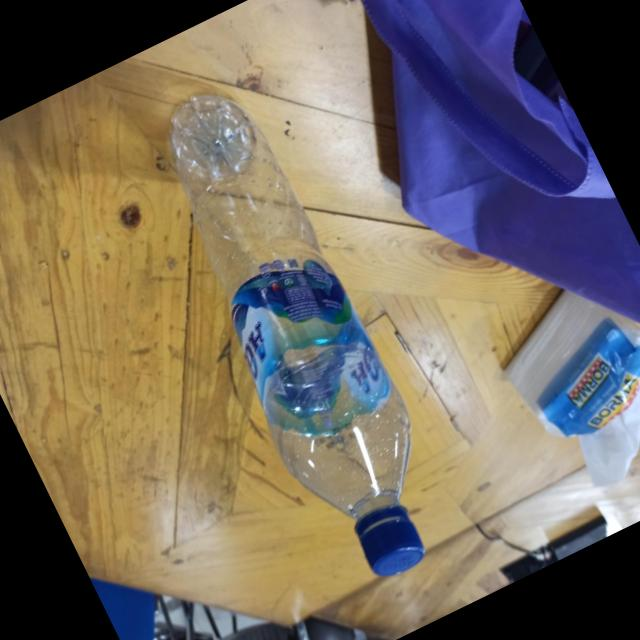BotolPlastik: (121, 70, 473, 600)
